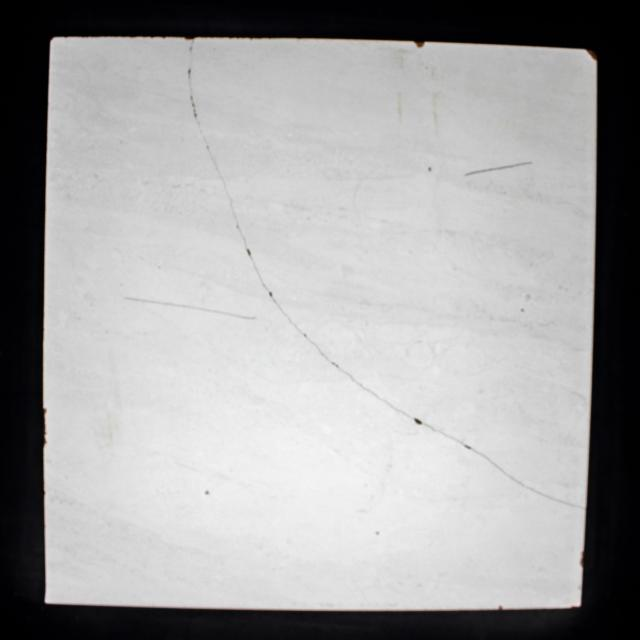edge-chipping: (42, 406, 49, 448), (583, 48, 598, 62), (412, 40, 426, 49), (578, 550, 585, 568)
hole: (413, 417, 422, 425)
line: (306, 338, 357, 382), (358, 383, 412, 418), (197, 120, 224, 184), (225, 187, 247, 248), (272, 299, 304, 335), (424, 425, 471, 449), (123, 295, 193, 310), (465, 161, 533, 176), (472, 449, 509, 476), (195, 308, 258, 321), (510, 476, 543, 496), (250, 257, 268, 291), (544, 495, 582, 509)
